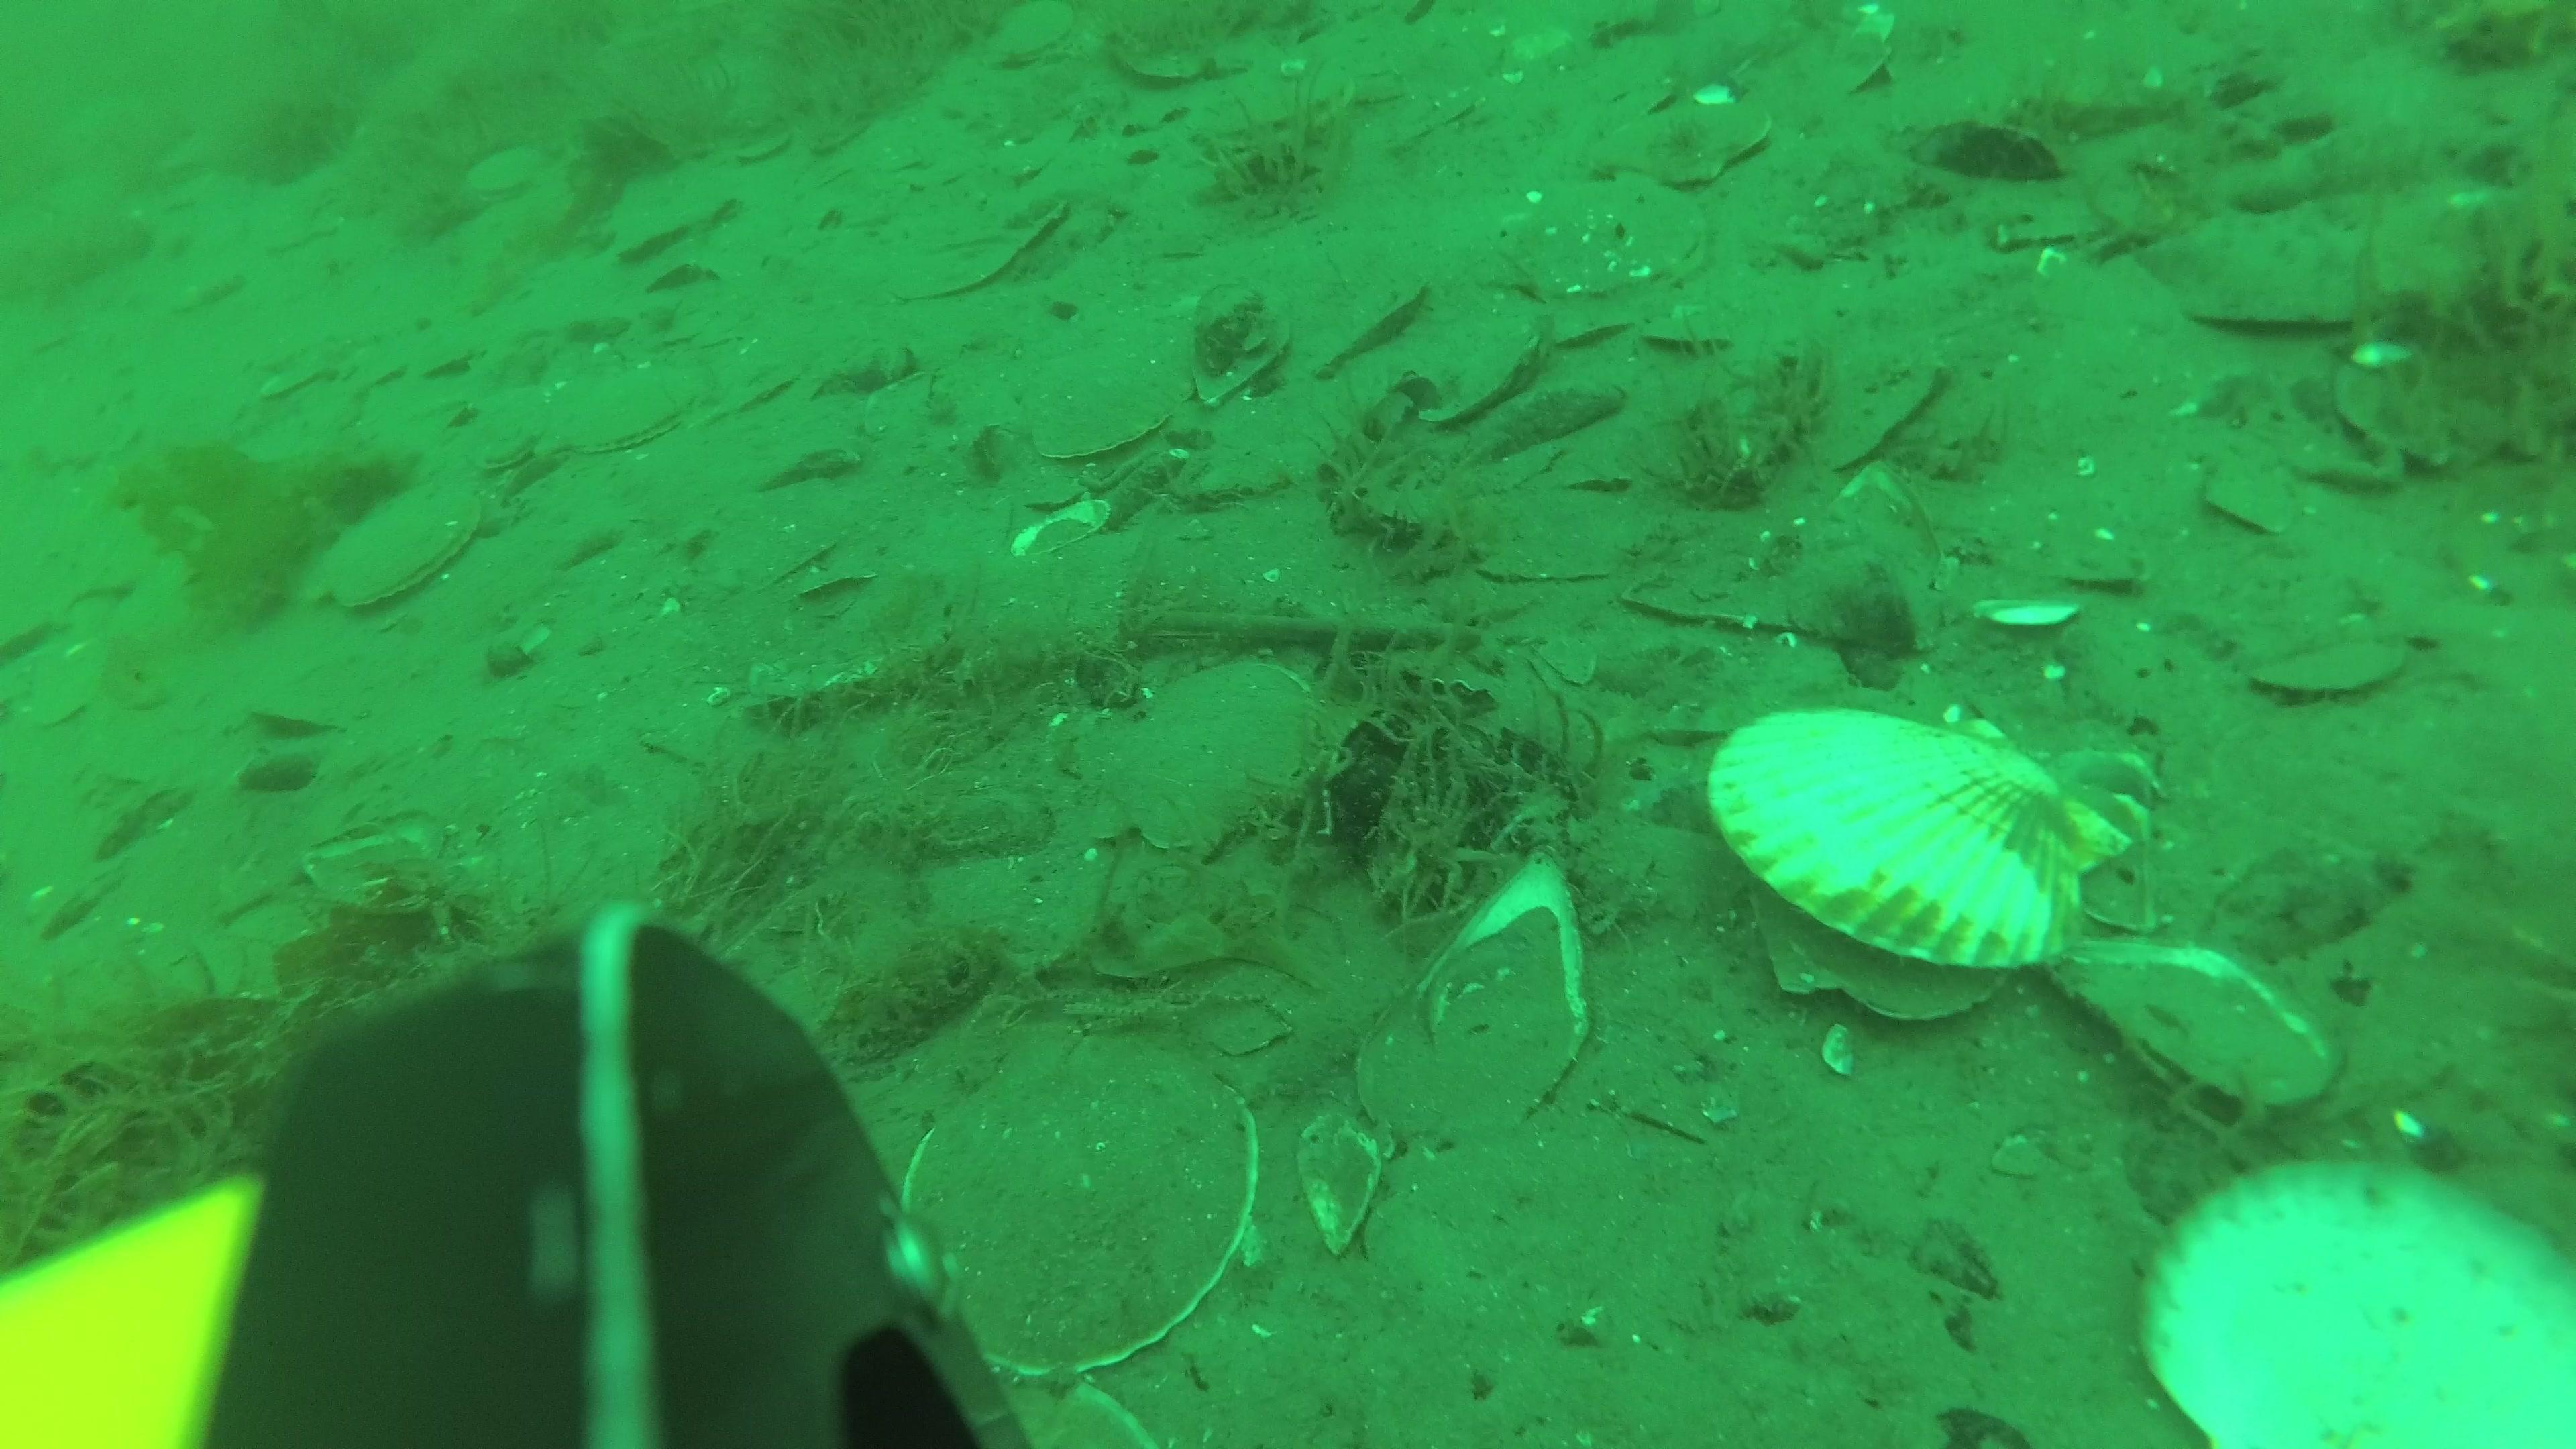scallop: (1723, 699, 2146, 1010), (1074, 665, 1327, 867), (1514, 186, 1709, 315), (1024, 334, 1194, 467), (1596, 92, 1776, 202), (331, 494, 485, 614), (1391, 322, 1552, 435), (559, 357, 711, 465), (2254, 619, 2411, 720), (1307, 278, 1442, 377), (610, 189, 743, 271), (1522, 292, 1614, 352), (1644, 310, 1741, 364), (474, 416, 550, 485)
